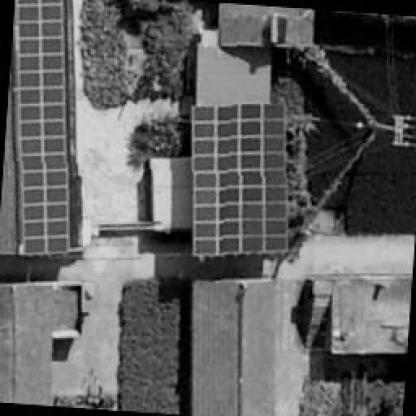solar-pv-panel: (190, 101, 288, 254)
